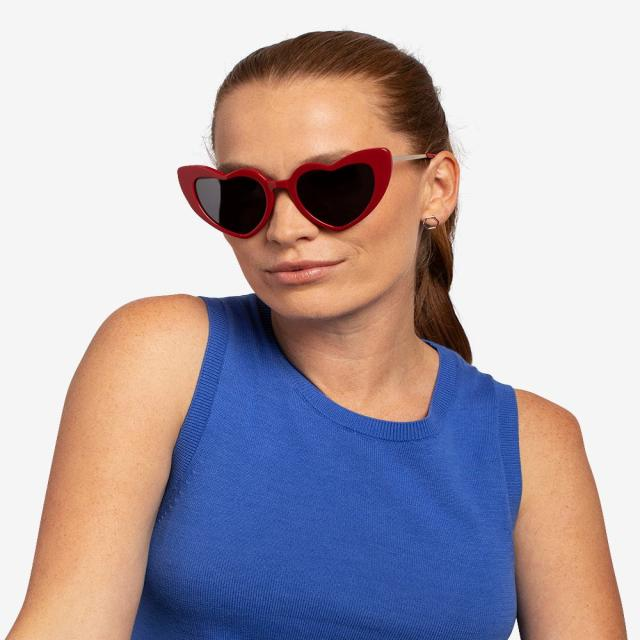2_gafas: (176, 146, 437, 240)
